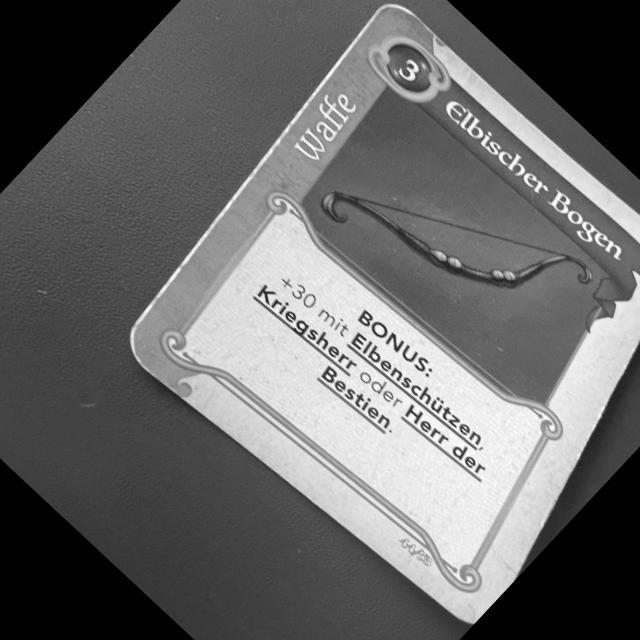Elven Longbow: (114, 0, 640, 628)
